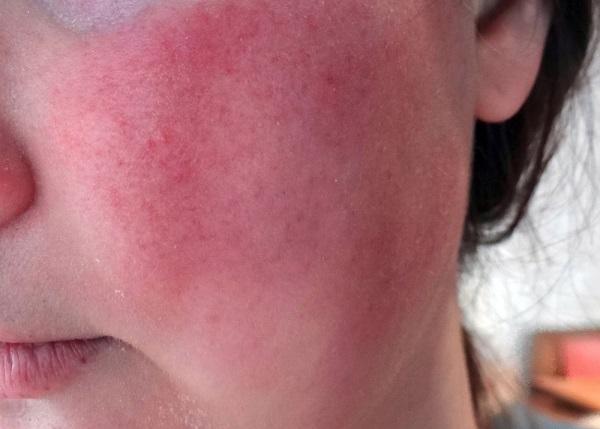Skin-Redness: (128, 4, 444, 325), (137, 141, 344, 280)
